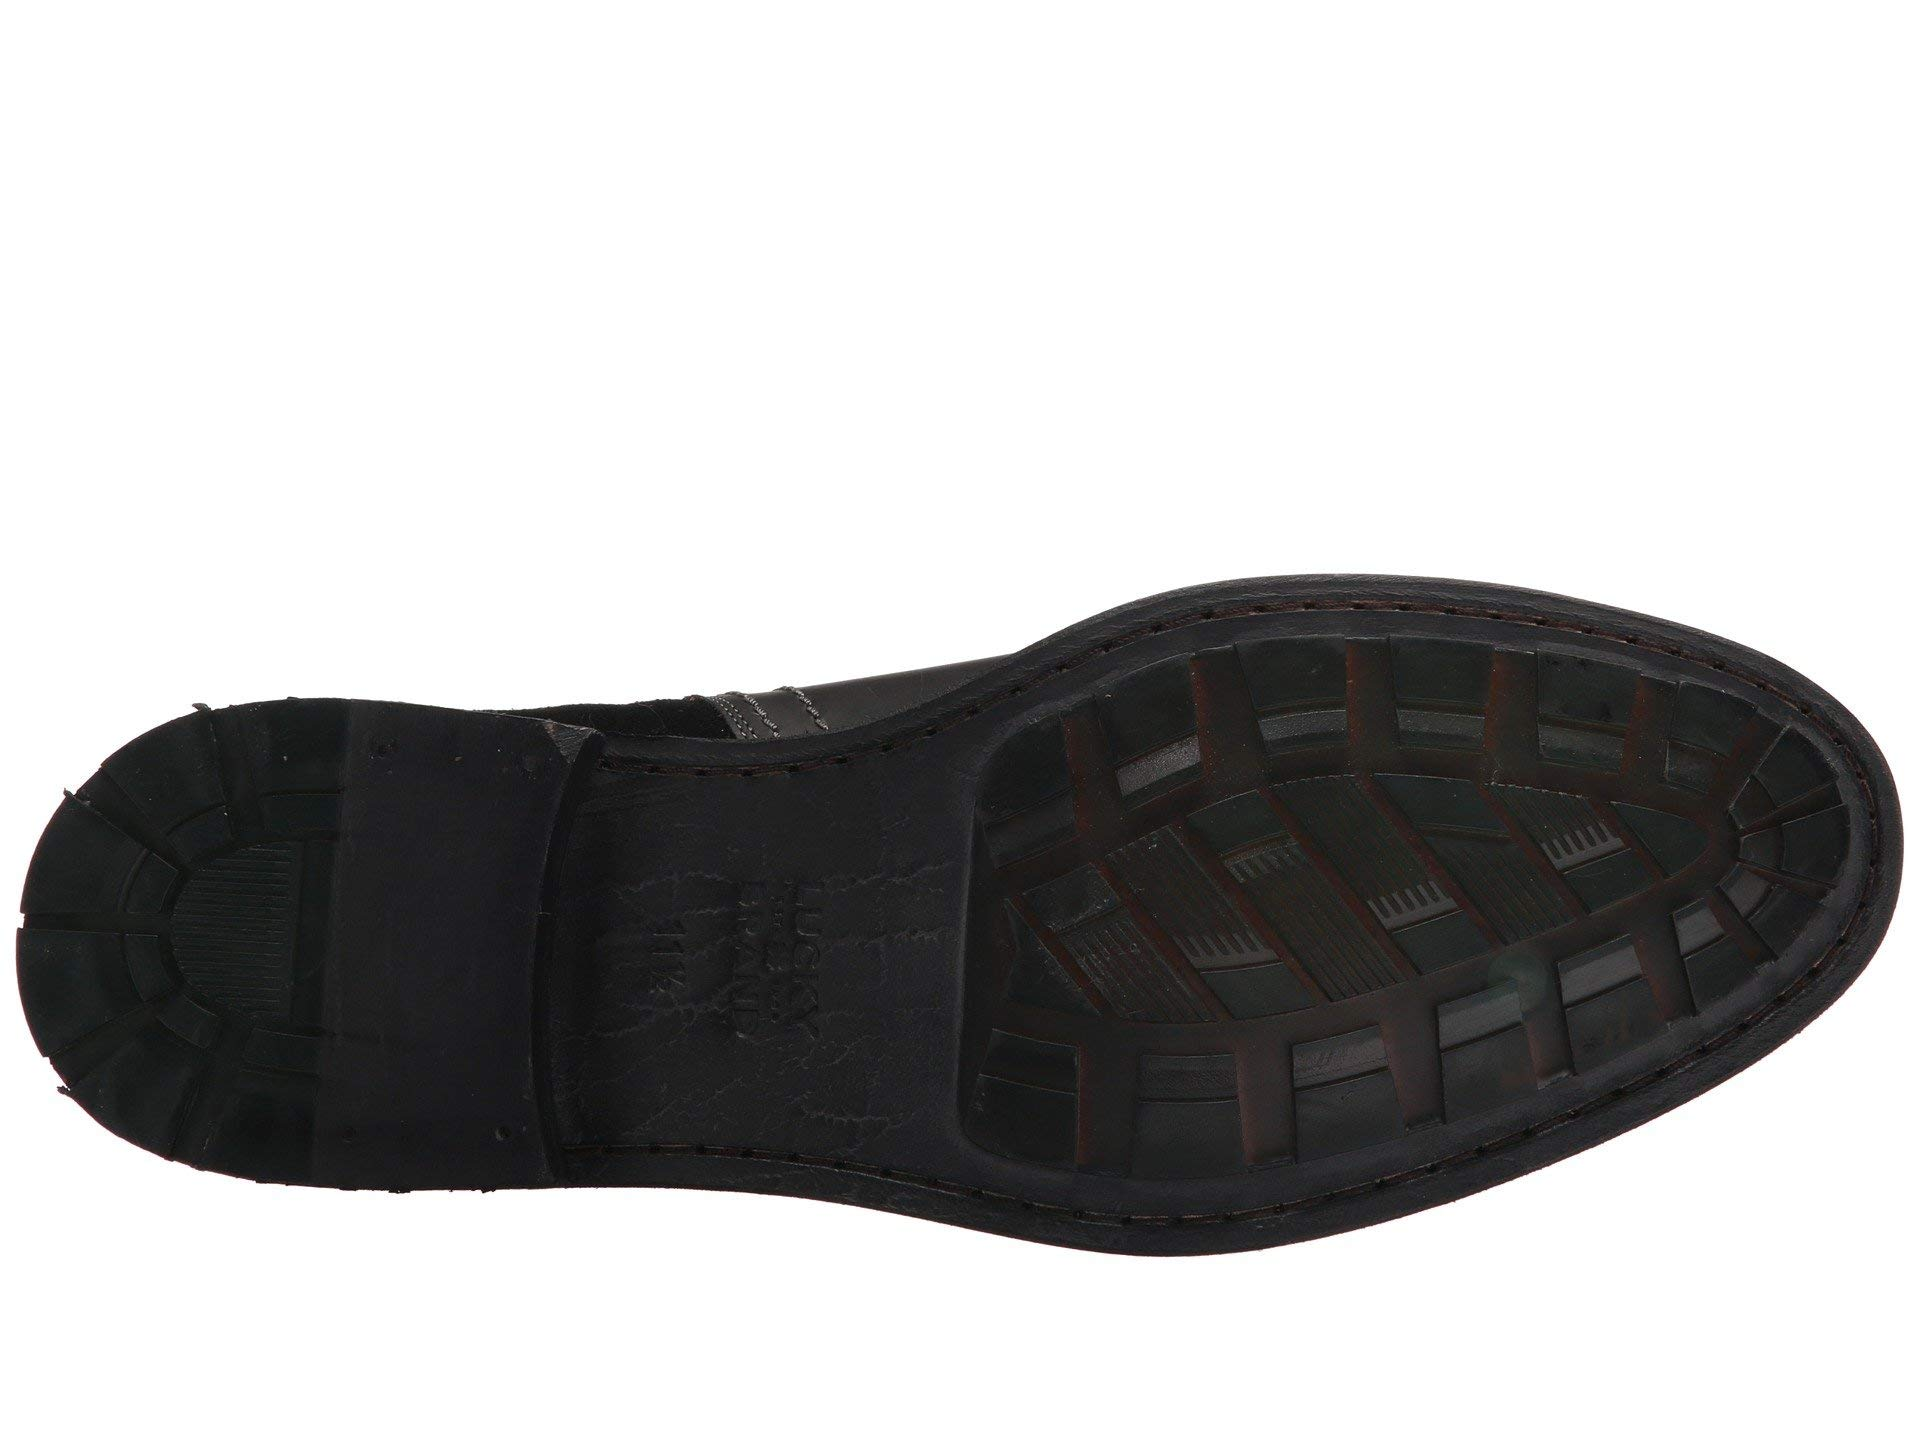exclude: (481, 628, 993, 1234)
line: (190, 871, 283, 997)
quad: (1104, 652, 1643, 787), (1288, 961, 1534, 1187), (1693, 715, 1850, 957), (1085, 1023, 1252, 1193)
